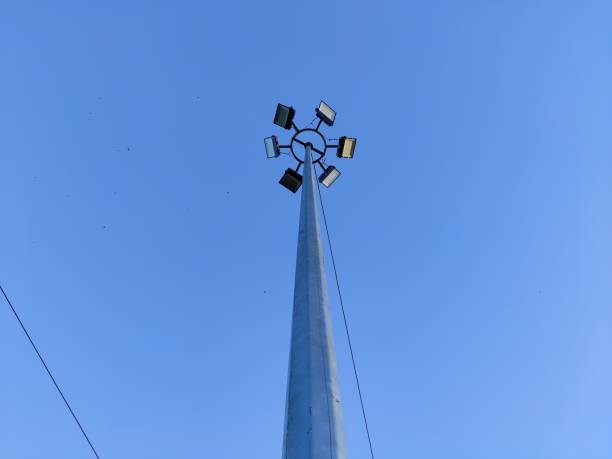light_pole: (282, 128, 348, 459)
